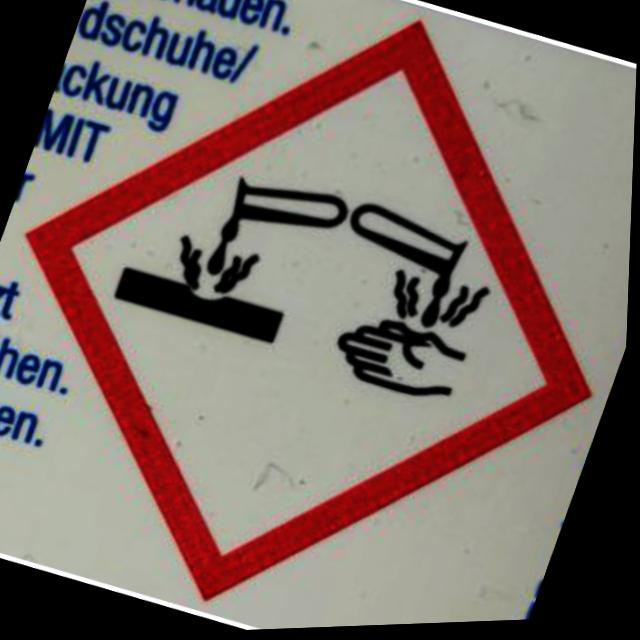corrosive: (108, 134, 512, 419)
